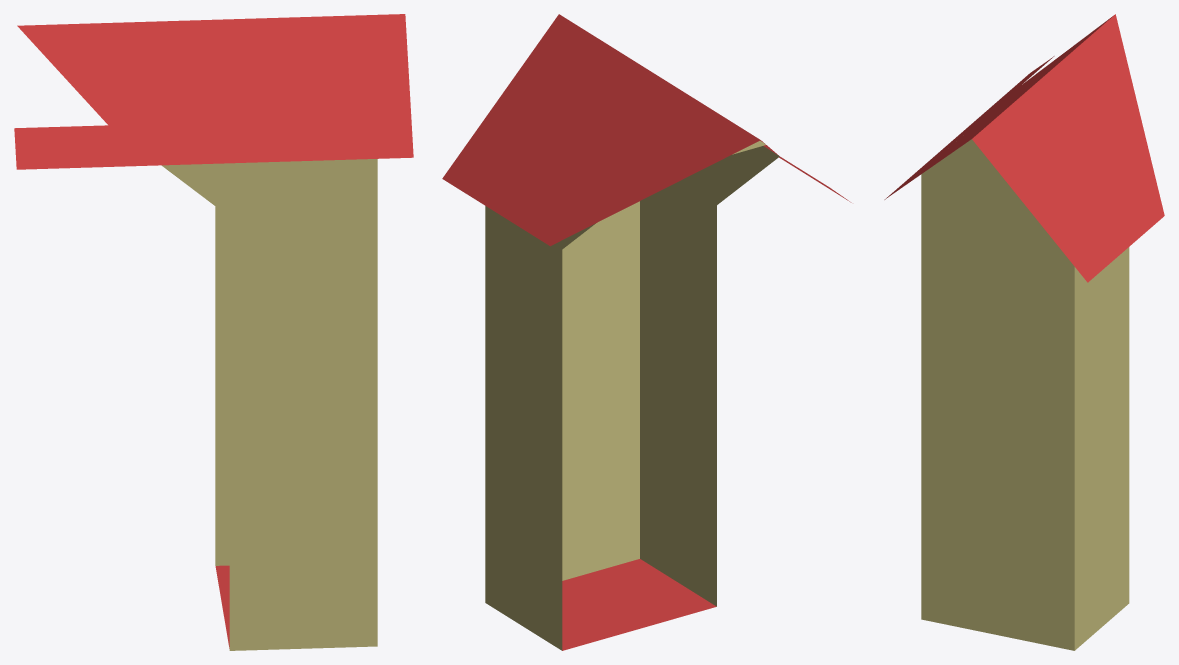
The picture shows the model from 3 angles, left to right: view 1: azimuth 30°, elevation 25°; view 2: azimuth 150°, elevation 25°; view 3: azimuth 270°, elevation 25°; orthographic projection. The views are drawn at different scales.
Bounding box in the file's own units: 10.58 × 7.41 × 14.65.
